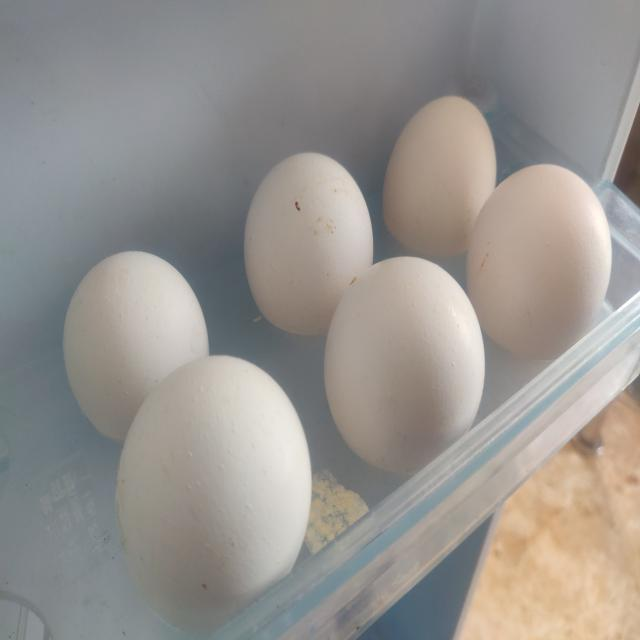Egg: (115, 355, 312, 634), (324, 256, 485, 475), (467, 164, 613, 360), (62, 251, 209, 440), (244, 152, 373, 335), (383, 95, 497, 255)
